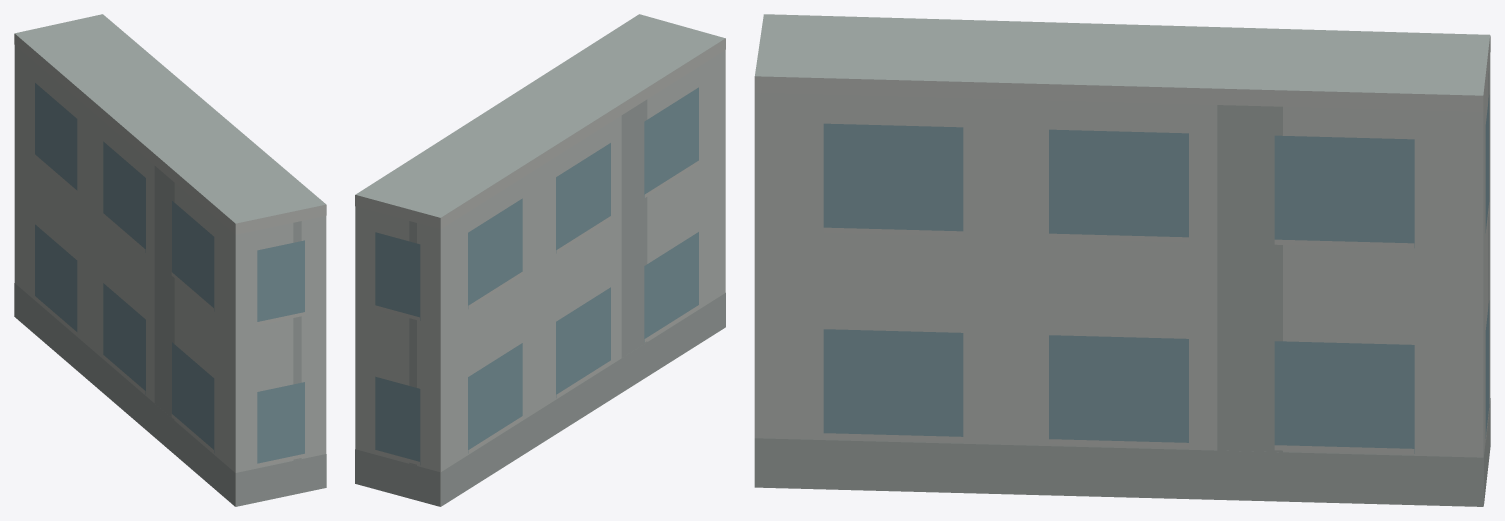
File: survey-upis-32945172.glb
3 renders of one model, left to right at view 1: azimuth 30°, elevation 25°; view 2: azimuth 150°, elevation 25°; view 3: azimuth 270°, elevation 25°, orthographic. The views are drawn at different scales.
Visible parts, largest first — view 1: survey-upis-32945172.tmp; view 2: survey-upis-32945172.tmp; view 3: survey-upis-32945172.tmp.
Boxes of the visible parts, x1,y1,x2,y2 form: survey-upis-32945172.tmp: (14, 14, 326, 506); survey-upis-32945172.tmp: (355, 14, 725, 506); survey-upis-32945172.tmp: (754, 14, 1490, 506).
Bounding box in the file's own units: 2.61 × 6.1 × 9.9.
